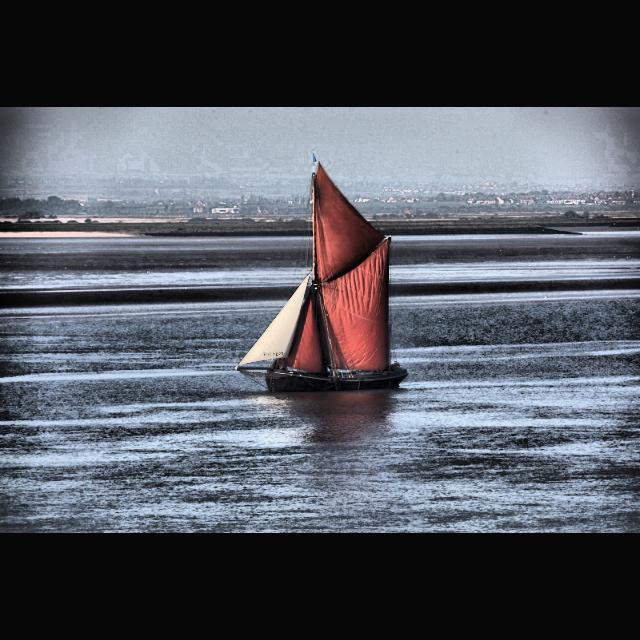sailing_vessel: (235, 149, 410, 393)
